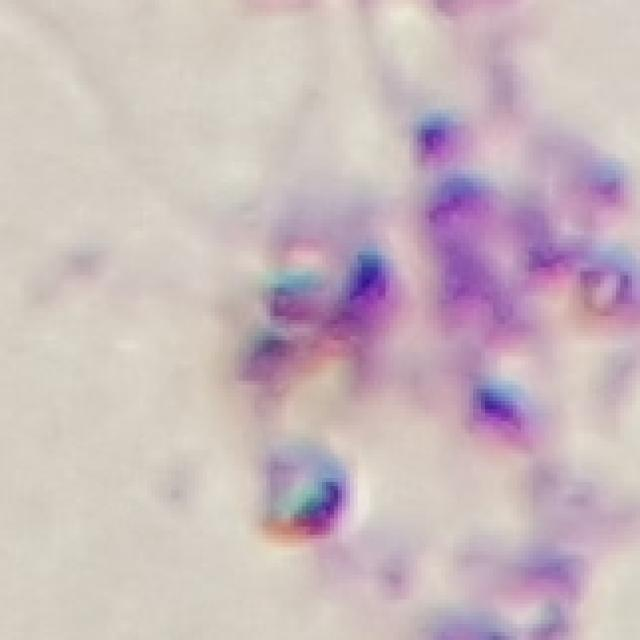non-sperm: (252, 250, 394, 545)
